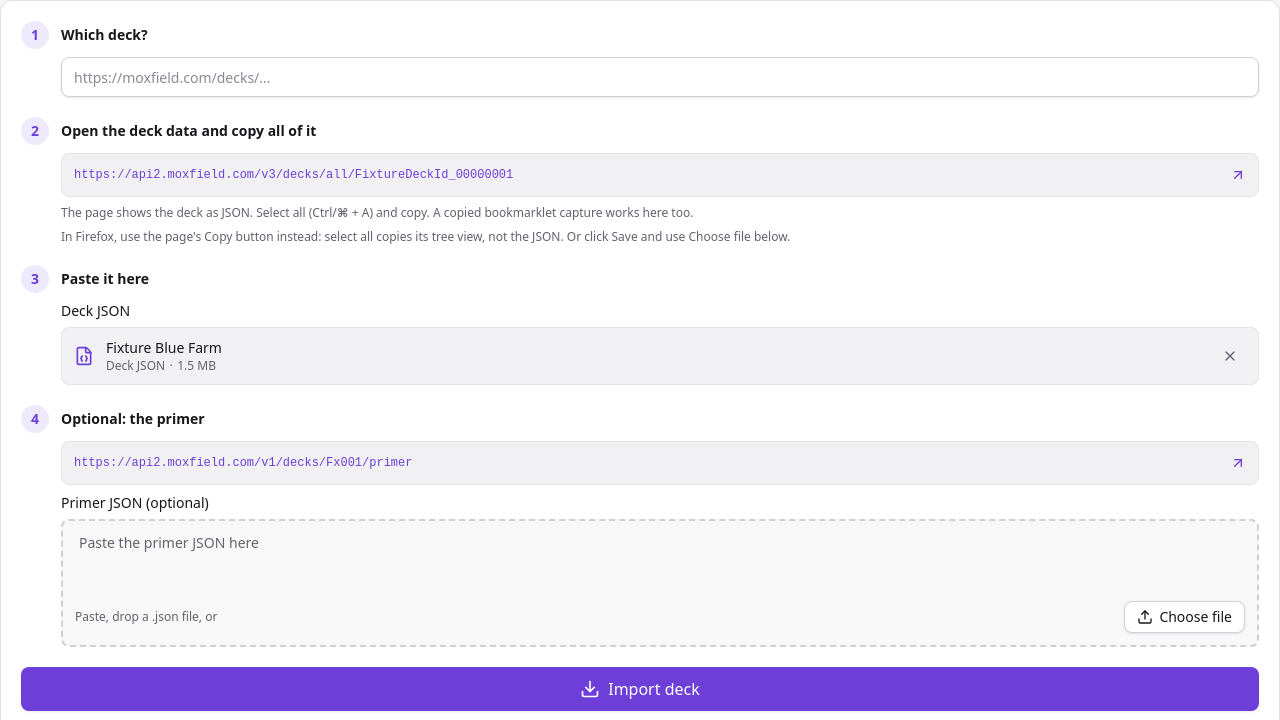
Test: PasteCapture sending › reports a deck that is too large to send, without sending it
Click the button "Import deck" at x=640, y=689, box [21,667,1259,711]
(page scrolled)
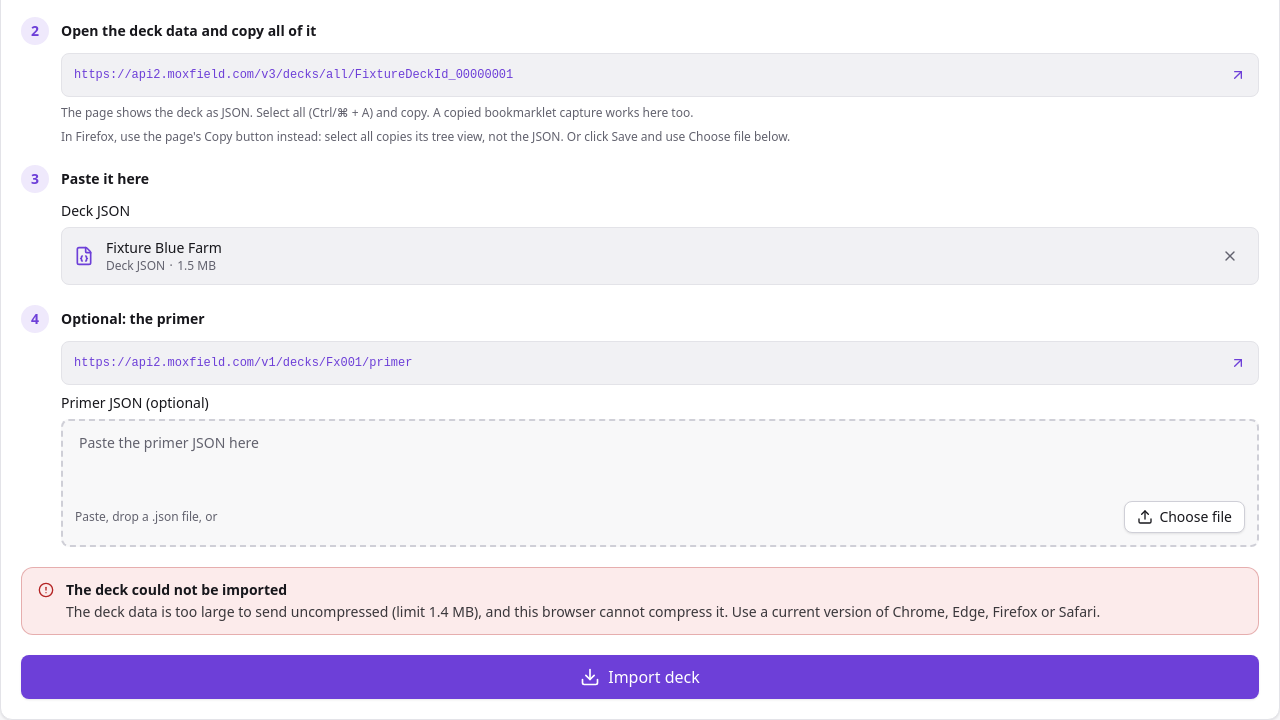
Expected: the text "The deck could not be imported" shows "this browser cannot compress it", [66,602,1100,621]
